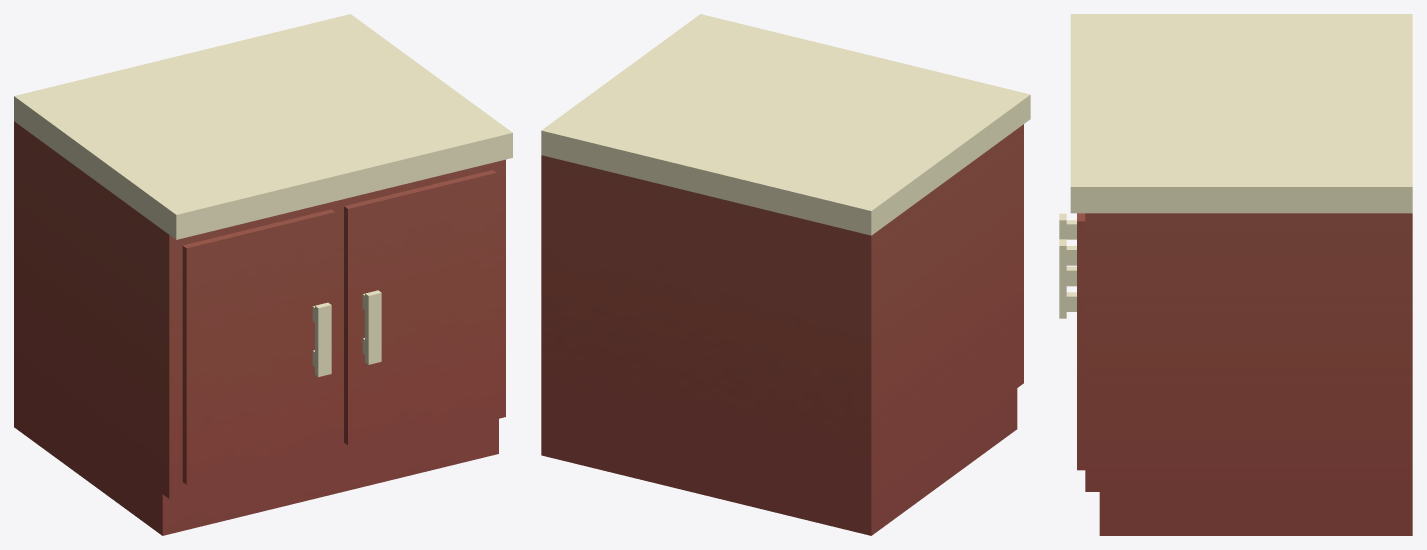
Rendered from SM_Cabinet_3_04.fbx.
3 renders of one model, left to right at view 1: azimuth 30°, elevation 25°; view 2: azimuth 150°, elevation 25°; view 3: azimuth 270°, elevation 25°, orthographic. The views are drawn at different scales.
Parts seen in each view (by area): view 1: SM_Cabinet_3_04; view 2: SM_Cabinet_3_04; view 3: SM_Cabinet_3_04.
Boxes of the visible parts, box(x1,y1,x2,y2) form: SM_Cabinet_3_04: box(14, 14, 512, 535); SM_Cabinet_3_04: box(541, 14, 1030, 535); SM_Cabinet_3_04: box(1059, 14, 1412, 535).
Size of the model in its own units: 114 by 107 by 98.65.
